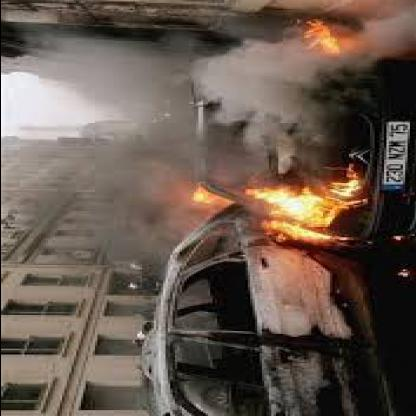Fire: (268, 195, 314, 233), (313, 26, 327, 48), (193, 194, 215, 204)
Smoke: (36, 41, 174, 100), (70, 144, 158, 228), (204, 41, 306, 109), (352, 8, 406, 53)
